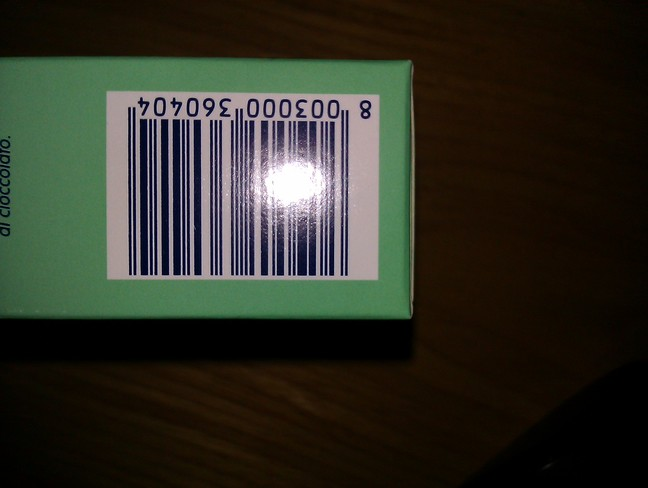barcode: (104, 92, 388, 287)
